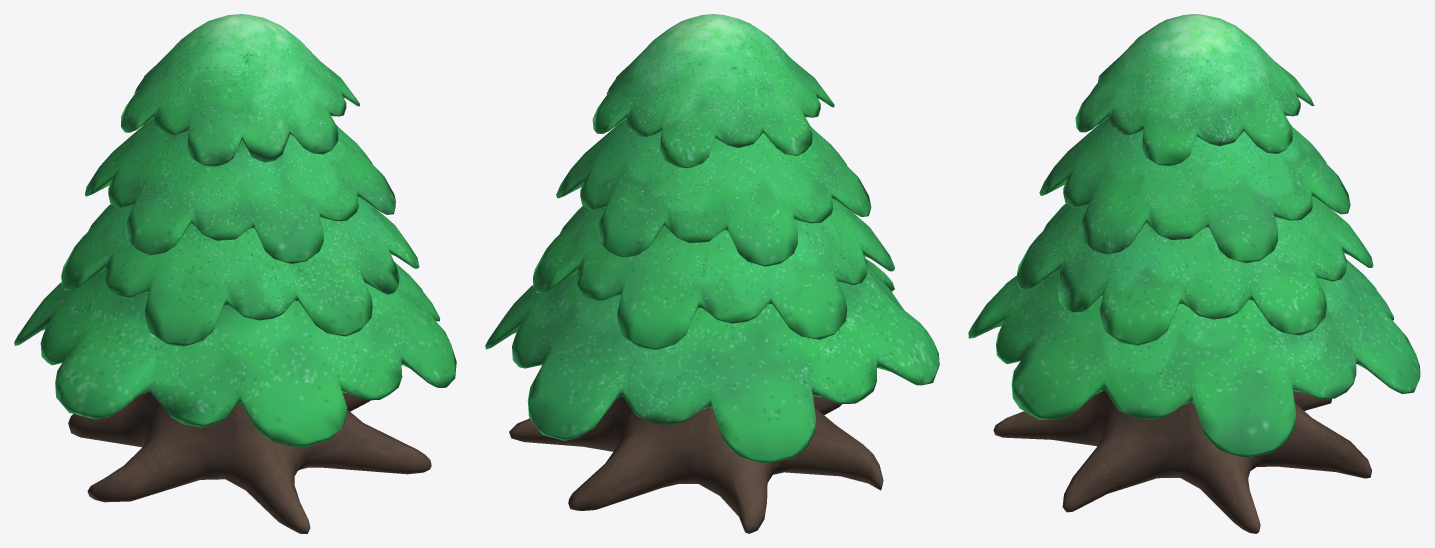
The model's file is tree.glb.
The picture shows the model from 3 angles, left to right: view 1: azimuth 30°, elevation 25°; view 2: azimuth 150°, elevation 25°; view 3: azimuth 270°, elevation 25°; orthographic projection.
Visible parts, largest first — view 1: Branches, Trunk; view 2: Branches, Trunk; view 3: Branches, Trunk.
Boxes of the visible parts, x1=… form: Branches: x1=14, y1=14, x2=456, y2=446; Trunk: x1=68, y1=391, x2=431, y2=533; Branches: x1=485, y1=14, x2=939, y2=463; Trunk: x1=509, y1=396, x2=883, y2=533; Branches: x1=968, y1=14, x2=1420, y2=458; Trunk: x1=993, y1=390, x2=1371, y2=533.
Bounding box in the file's own units: 3.28 × 3.5 × 3.29.
Materials: 2 (2 with a texture image).
